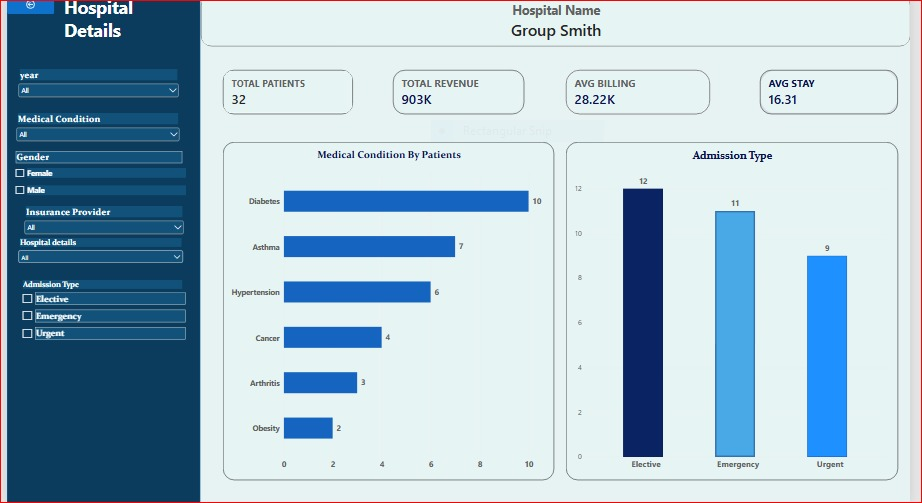

The dashboard page shown, as its layout file describes it:
{"tool":"powerbi","page":{"name":"Hospital_details","canvas":[1920,1080],"ordinal":2},"visuals":[{"type":"shape","box":[0,0,411.1,1080.6],"z":0},{"type":"slicer","fields":{"Values":["healthcare_dataset.Gender"]},"box":[10.6,331.7,369.9,112.7],"z":0,"group":"g1"},{"type":"slicer","fields":{"Values":["calender.year"]},"box":[19.1,157.3,350.8,72.3],"z":1000},{"type":"slicer","fields":{"Values":["healthcare_dataset.Insurance Provider"]},"box":[31.9,448.5,348.7,63.8],"z":1000,"group":"g1"},{"type":"textbox","box":[120.1,0,261.7,109.4],"z":2000},{"type":"slicer","fields":{"Values":["healthcare_dataset.Hospital"]},"box":[20,516.9,360.4,70.8],"z":2000,"group":"g1"},{"type":"slicer","fields":{"Values":["healthcare_dataset.Admission Type"]},"box":[25.5,605.8,355,142.4],"z":3000,"group":"g1"},{"type":"slicer","fields":{"Values":["healthcare_dataset.Medical Condition"]},"box":[14.9,250.9,357.2,61.7],"z":4000},{"type":"group","id":"g1","title":"Group 1","box":[10.6,331.7,369.9,416.5],"z":5000},{"type":"actionButton","box":[0,0,100.8,40.8],"z":6000},{"type":"cardVisual","title":"TOTAL PATIENTS","fields":{"Data":["healthcare_dataset.total_revenue"]},"box":[821.6,158.7,278.5,93.5],"z":7000},{"type":"cardVisual","title":"AVG BILLING","fields":{"Data":["healthcare_dataset.avg_billing"]},"box":[1188.5,158.7,306.1,93.5],"z":8000},{"type":"cardVisual","title":"AVG_STAYS","fields":{"Data":["healthcare_dataset.avg_lengthstay"]},"box":[1600.4,158.7,293.4,93.5],"z":9000},{"type":"cardVisual","fields":{"Data":["healthcare_dataset.Total_patients"]},"box":[459.1,158.7,276.4,93.5],"z":10000},{"type":"clusteredBarChart","title":"Medical Condition By Patients","fields":{"Category":["healthcare_dataset.Medical Condition"],"Y":["CountNonNull(healthcare_dataset.Name)"]},"box":[459.1,313.2,703.6,718.7],"z":11000},{"type":"clusteredColumnChart","title":"Admission Type","fields":{"Category":["healthcare_dataset.Admission Type"],"Y":["healthcare_dataset.Total_patients"]},"box":[1188.5,313.2,705.8,718.7],"z":12000},{"type":"cardVisual","fields":{"Data":["calender.selected_hospital"]},"box":[411.9,0,1508.1,109.4],"z":12001}]}

Visuals, with their boxes on the page's 1920x1080 design canvas (x1, y1, x2, y2). These are canvas units, not pixel positions in the 922x503 screenshot, which may show the page scaled, cropped or inside an application window:
shape: l=0, t=0, r=411, b=1081
slicer - healthcare_dataset.Gender: l=11, t=332, r=380, b=444
slicer - calender.year: l=19, t=157, r=370, b=230
slicer - healthcare_dataset.Insurance Provider: l=32, t=448, r=381, b=512
textbox: l=120, t=0, r=382, b=109
slicer - healthcare_dataset.Hospital: l=20, t=517, r=380, b=588
slicer - healthcare_dataset.Admission Type: l=26, t=606, r=380, b=748
slicer - healthcare_dataset.Medical Condition: l=15, t=251, r=372, b=313
"Group 1" group: l=11, t=332, r=380, b=748
actionButton: l=0, t=0, r=101, b=41
"TOTAL PATIENTS" cardVisual: l=822, t=159, r=1100, b=252
"AVG BILLING" cardVisual: l=1188, t=159, r=1495, b=252
"AVG_STAYS" cardVisual: l=1600, t=159, r=1894, b=252
cardVisual - healthcare_dataset.Total_patients: l=459, t=159, r=736, b=252
"Medical Condition By Patients" clusteredBarChart: l=459, t=313, r=1163, b=1032
"Admission Type" clusteredColumnChart: l=1188, t=313, r=1894, b=1032
cardVisual - calender.selected_hospital: l=412, t=0, r=1920, b=109
